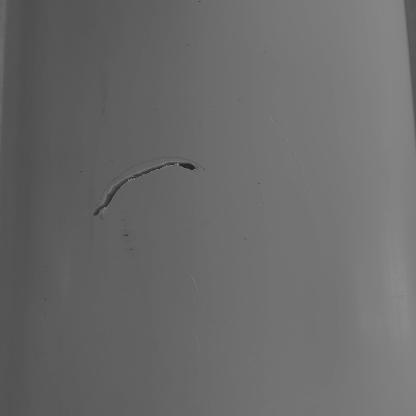fengxi: (92, 159, 201, 218)
